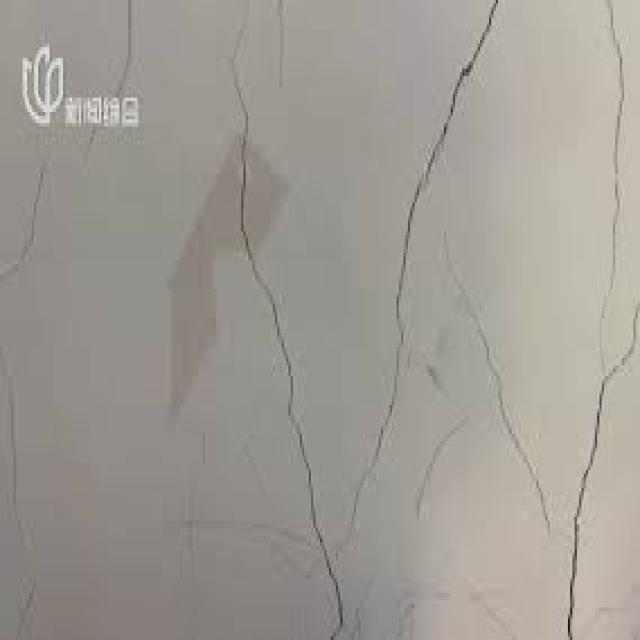crack: (230, 40, 343, 636), (401, 0, 498, 267), (566, 304, 638, 636), (361, 354, 397, 481), (613, 43, 622, 264), (117, 0, 131, 90)
wall_crack: (0, 172, 46, 282), (0, 372, 29, 534)
